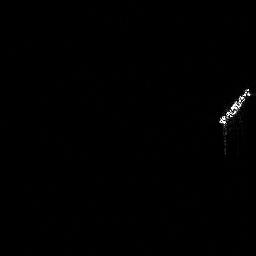ship: (214, 83, 254, 130)
